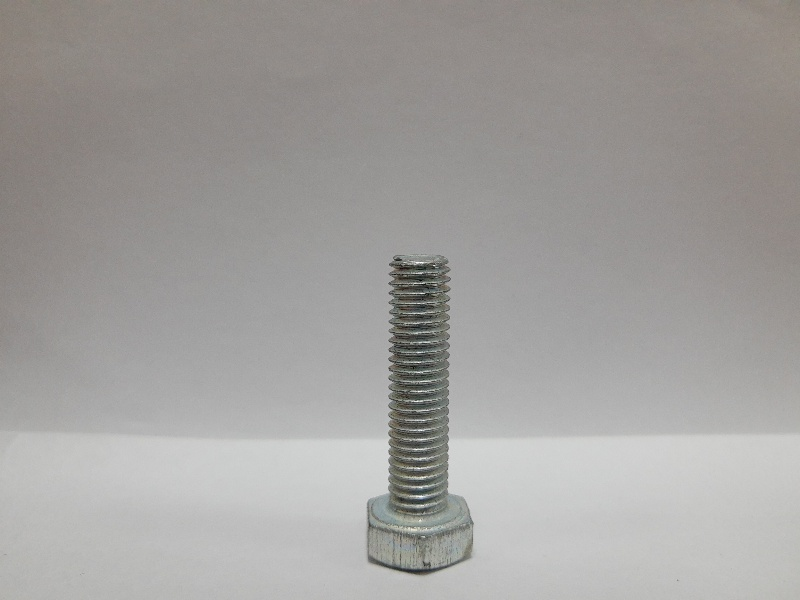pf: (361, 247, 481, 576)
